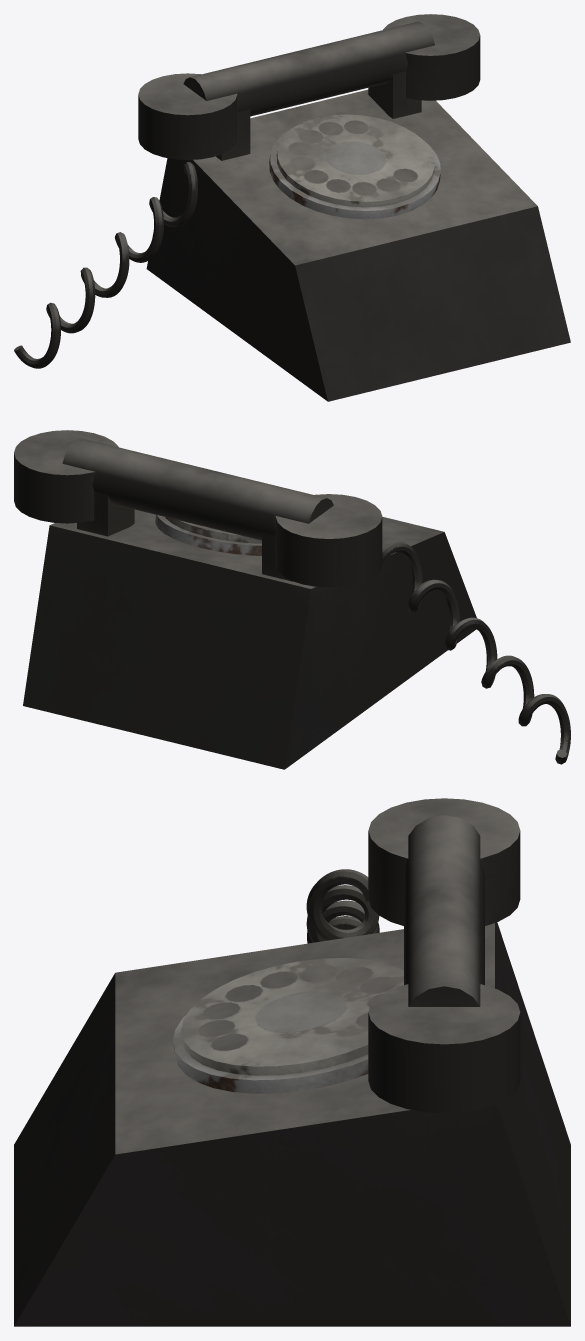
The model's file is SM_Telephone_Rotary.fbx.
The picture shows the model from 3 angles, top to bottom: view 1: azimuth 30°, elevation 25°; view 2: azimuth 150°, elevation 25°; view 3: azimuth 270°, elevation 25°; orthographic projection. The views are drawn at different scales.
Parts seen in each view (by area): view 1: SM_Telephone_Rotary; view 2: SM_Telephone_Rotary; view 3: SM_Telephone_Rotary.
Boxes of the visible parts, x1,y1,x2,y2 form: SM_Telephone_Rotary: [14, 14, 570, 401]; SM_Telephone_Rotary: [14, 430, 570, 769]; SM_Telephone_Rotary: [14, 798, 570, 1326].
Size of the model in its own units: 0.3377 by 0.1462 by 0.22.
1 material, 1 textured.
